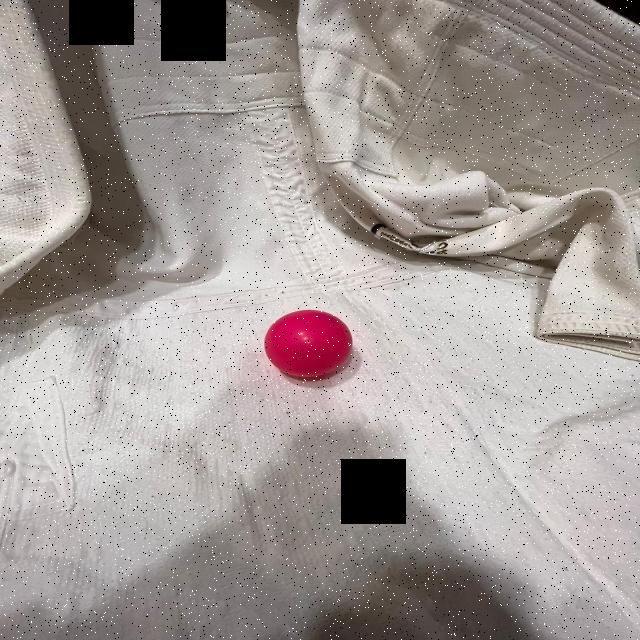ball: (260, 307, 357, 381)
